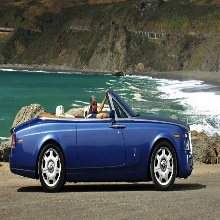no damage: (9, 90, 195, 191)
